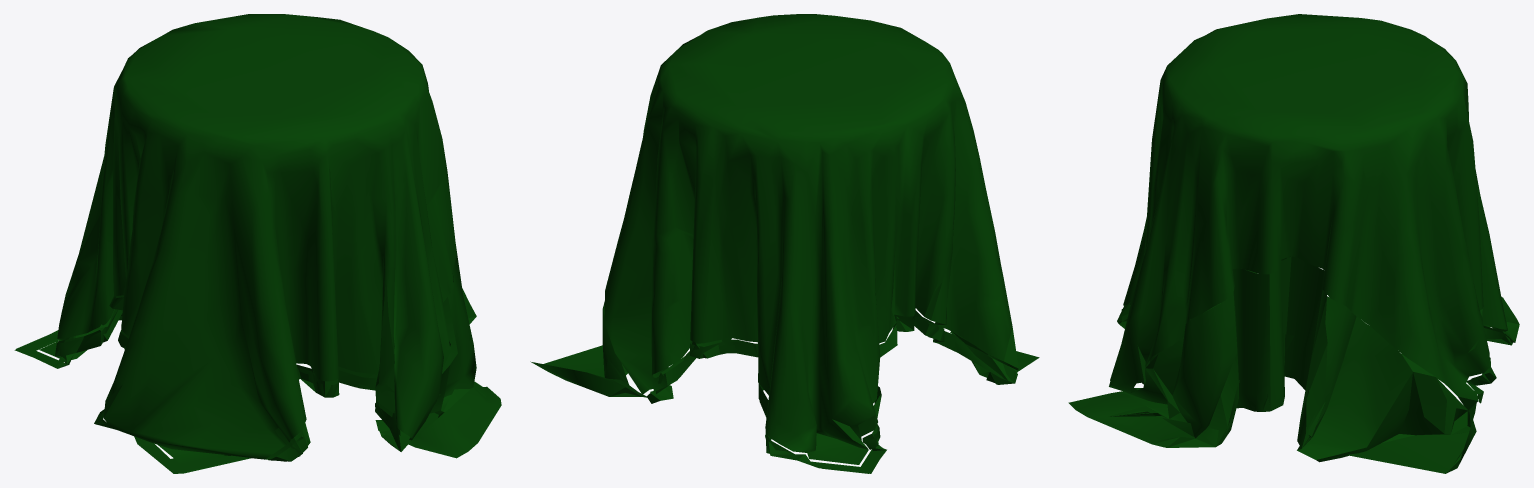
File: Table.FBX
3 renders of one model, left to right at view 1: azimuth 30°, elevation 25°; view 2: azimuth 150°, elevation 25°; view 3: azimuth 270°, elevation 25°, orthographic. The views are drawn at different scales.
Visible parts, largest first — view 1: sub01, sub02; view 2: sub01, sub02; view 3: sub01, sub02.
Boxes of the visible parts, x1,y1,x2,y2 form: sub01: [14, 14, 456, 473]; sub02: [16, 244, 501, 473]; sub01: [605, 14, 1039, 473]; sub02: [530, 301, 1021, 473]; sub01: [1109, 14, 1519, 410]; sub02: [1068, 256, 1519, 473].
Size of the model in its own units: 40.97 by 29.46 by 39.78.
